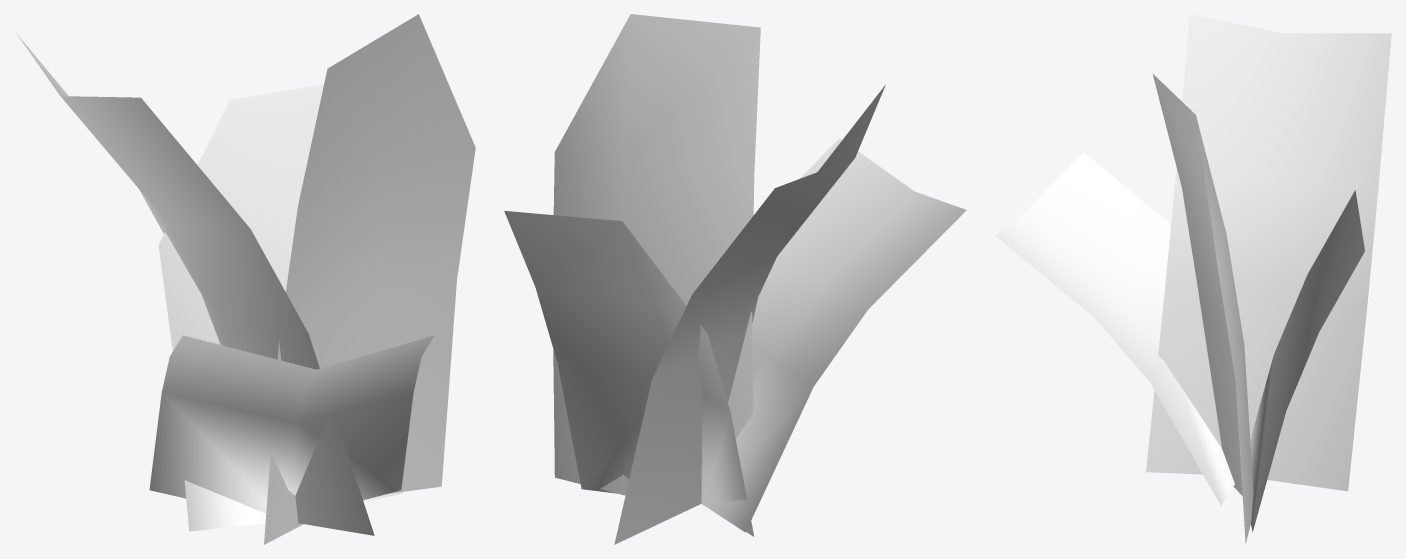
File: Beidaying_zhiwu02.FBX
3 renders of one model, left to right at view 1: azimuth 30°, elevation 25°; view 2: azimuth 150°, elevation 25°; view 3: azimuth 270°, elevation 25°, orthographic. The views are drawn at different scales.
Parts seen in each view (by area): view 1: Beidaying_zhiwu02; view 2: Beidaying_zhiwu02; view 3: Beidaying_zhiwu02.
Boxes of the visible parts, <box> form: Beidaying_zhiwu02: <box>15,14,475,544</box>; Beidaying_zhiwu02: <box>504,14,966,544</box>; Beidaying_zhiwu02: <box>995,14,1391,543</box>.
Size of the model in its own units: 74.84 by 84.82 by 96.8.
